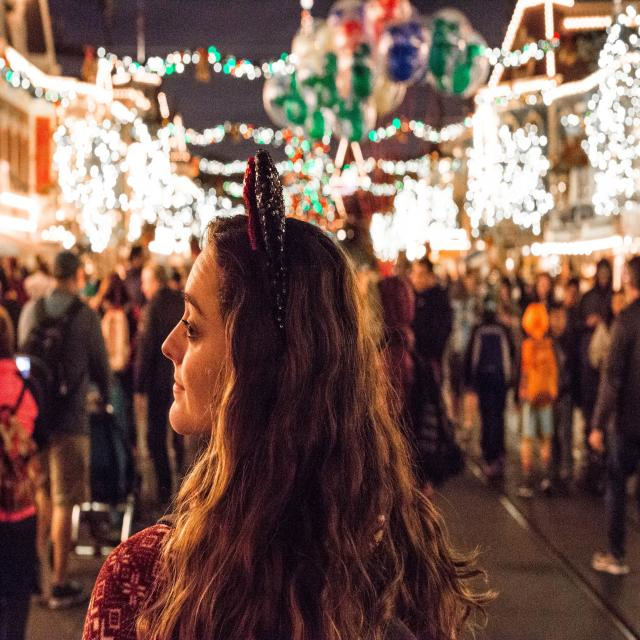adult: (81, 211, 468, 640)
